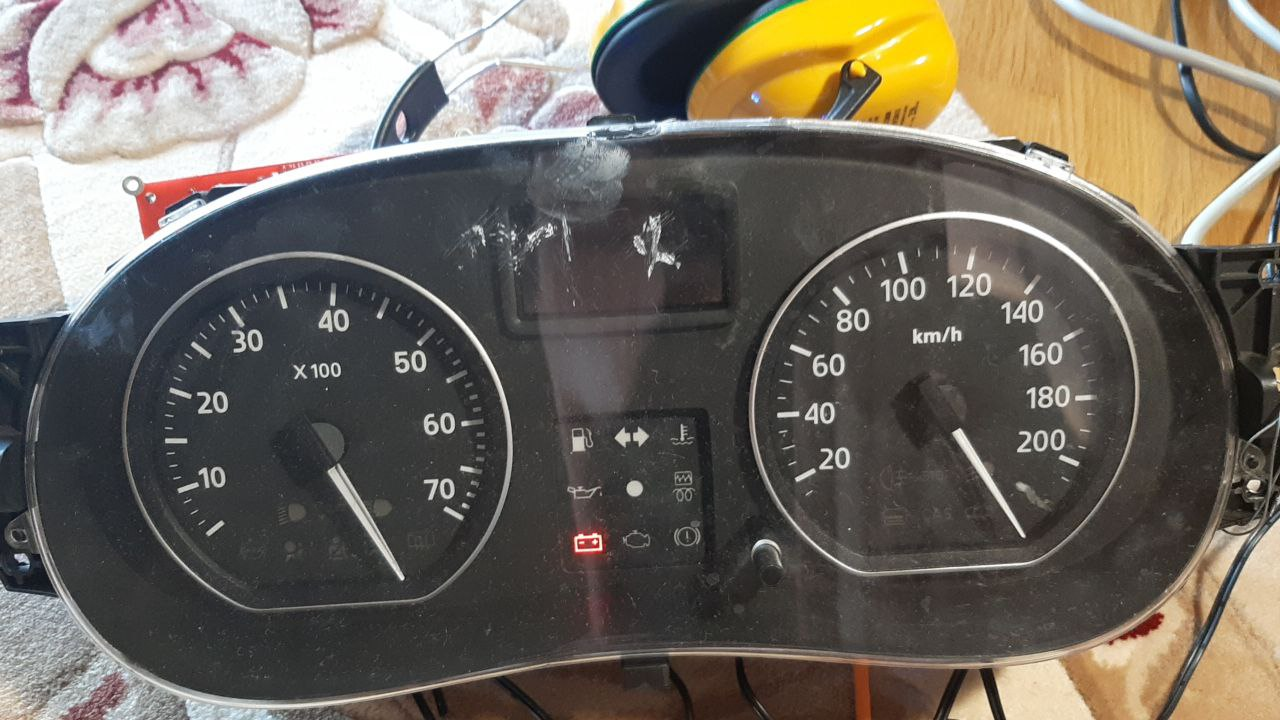accumulator: (569, 531, 605, 555)
